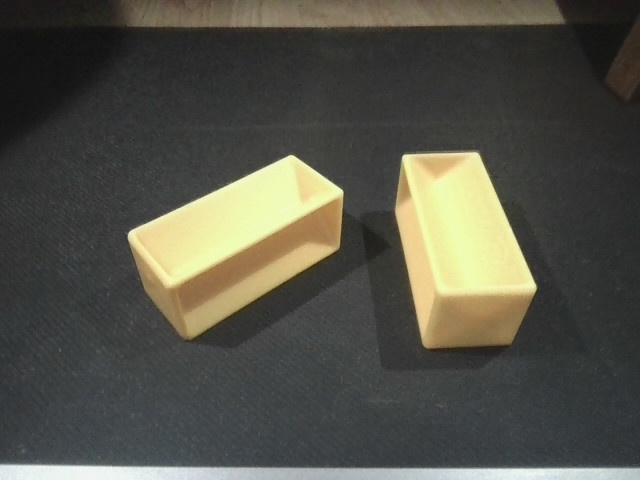YellowSample: (120, 153, 348, 342), (388, 148, 539, 352)
